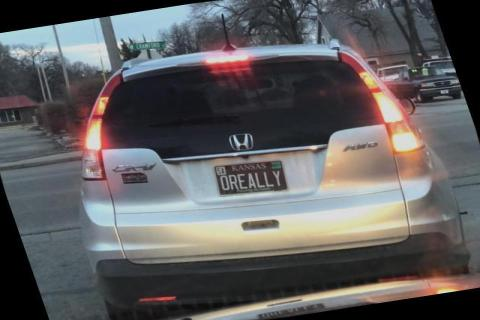LicensePlate: (210, 157, 288, 196)
